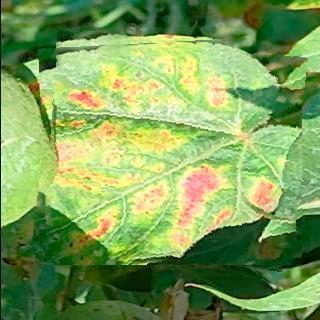blight: (37, 35, 301, 265)
